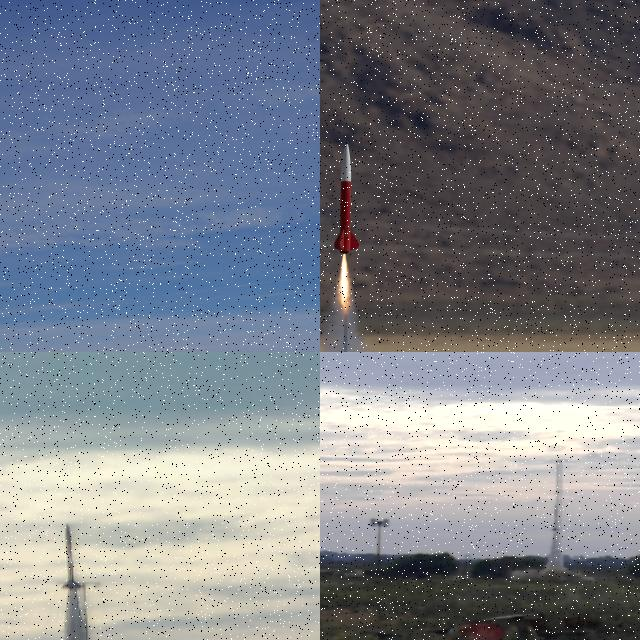Rocket: (332, 139, 361, 255), (59, 524, 82, 590), (551, 504, 561, 532)
